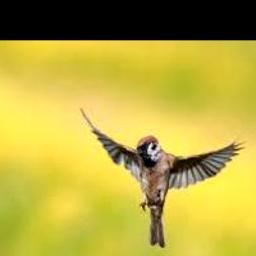Sparrow: (82, 107, 246, 248)
